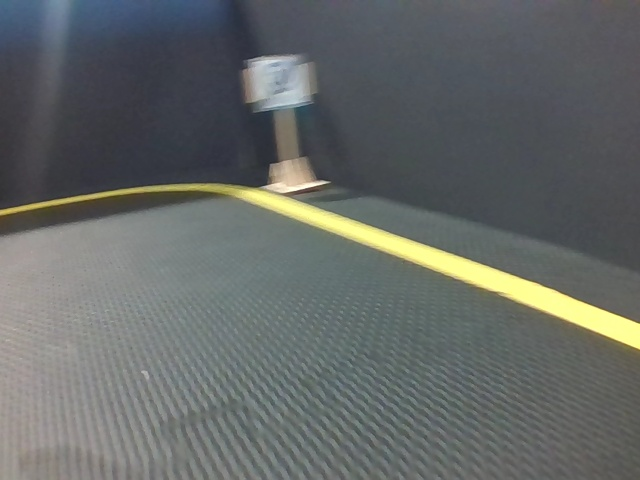no30: (251, 58, 311, 107)
